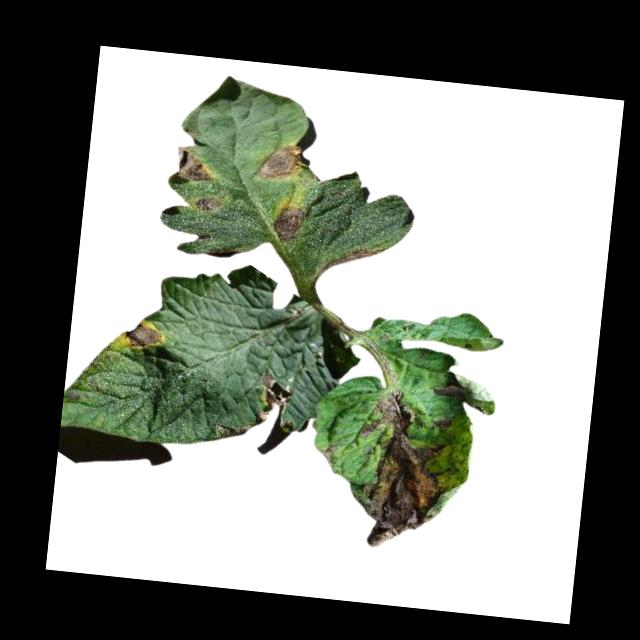Early_blight: (355, 390, 461, 558), (253, 139, 308, 186), (165, 143, 217, 189), (323, 241, 380, 276), (255, 371, 291, 426), (116, 318, 165, 352), (271, 202, 306, 242), (432, 380, 468, 400), (192, 194, 223, 215), (315, 439, 338, 460)
